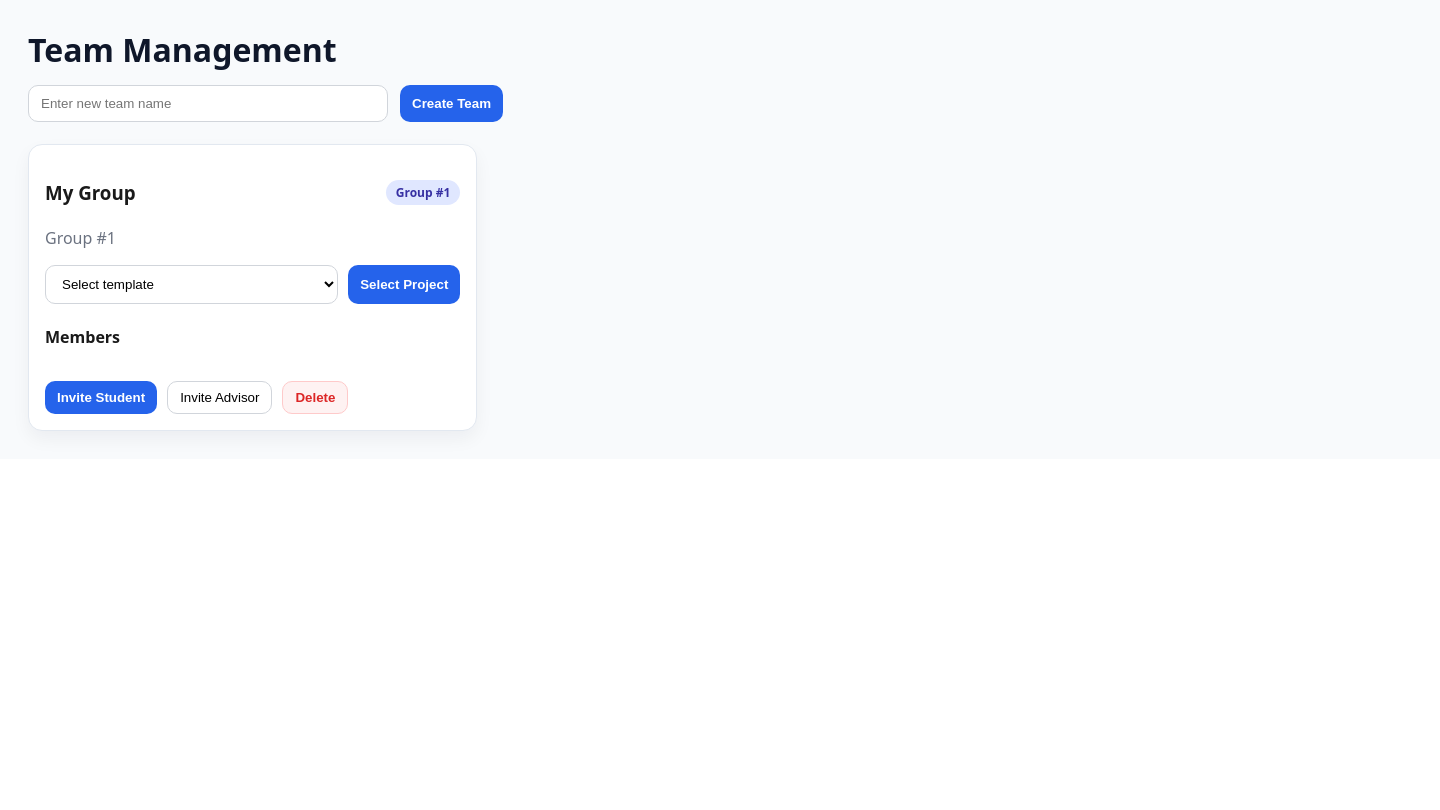
TeamManagement Page - Delete Group › shows error message when delete fails
The image size is (1440, 810).
Expected: the heading "My Group" is shown, [45,180,136,205]
Click the button "Delete": (315, 398) [282,381,348,414]
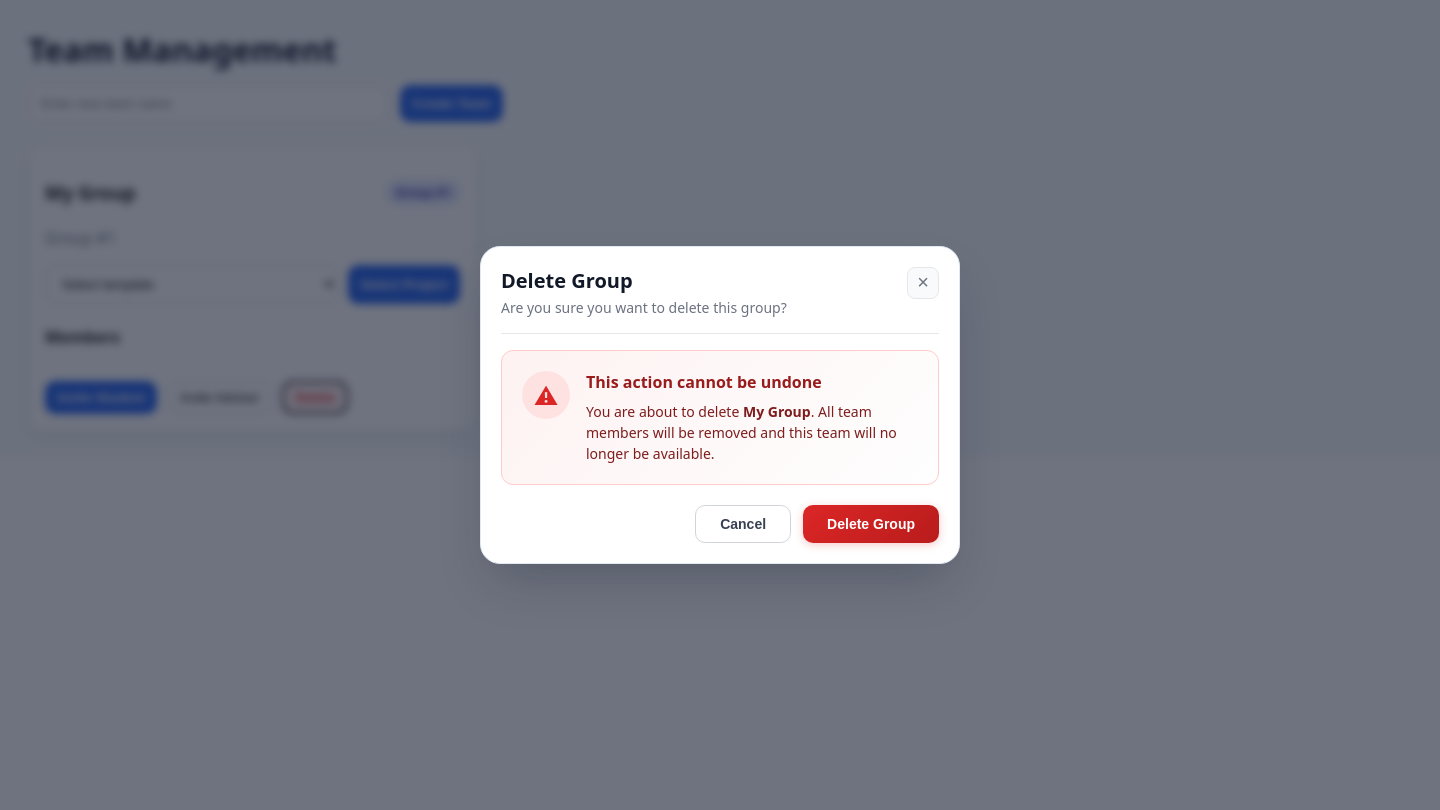
Click the button "Delete Group": (871, 524) [803,505,939,543]
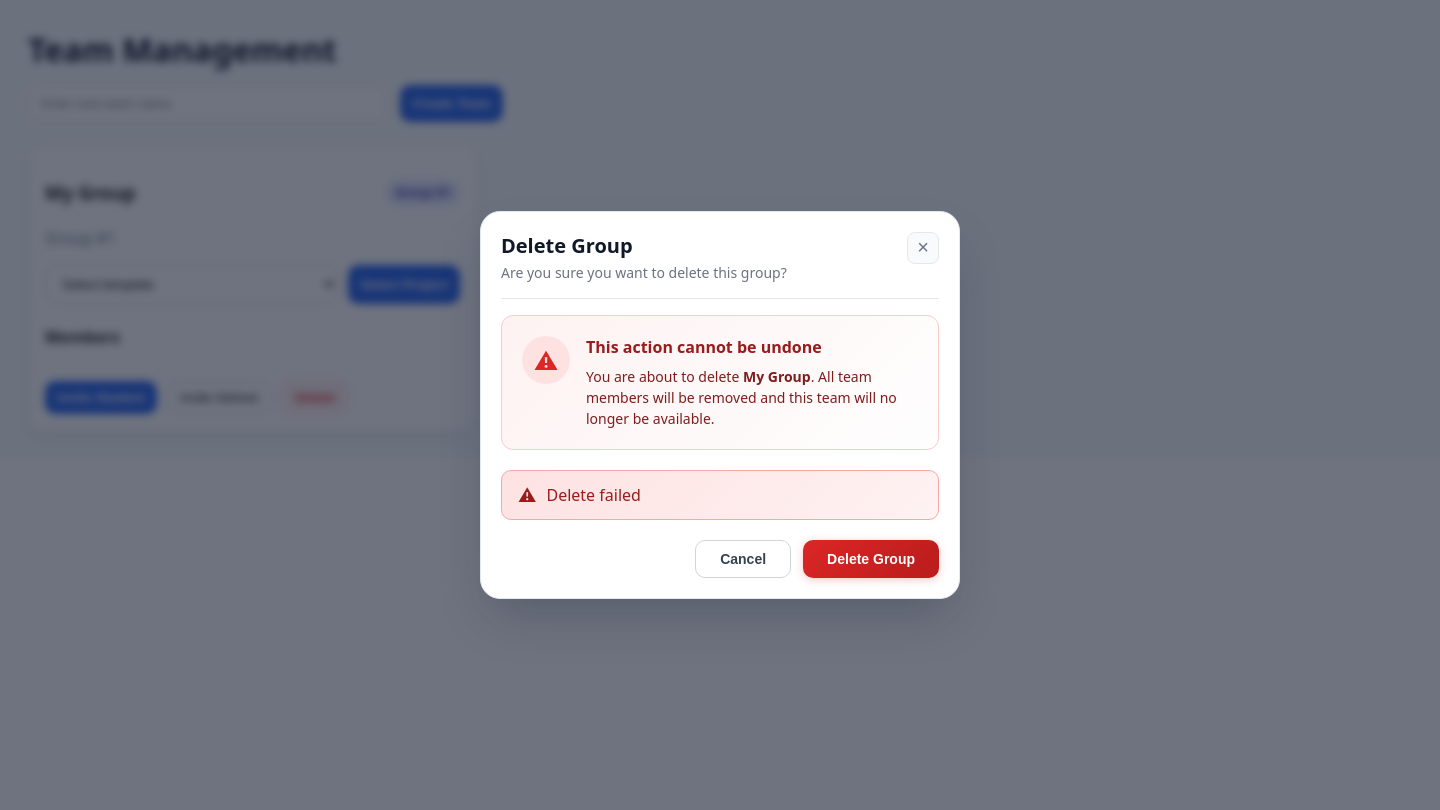
Now the text "Delete failed" is shown, box [546,484,641,506]
